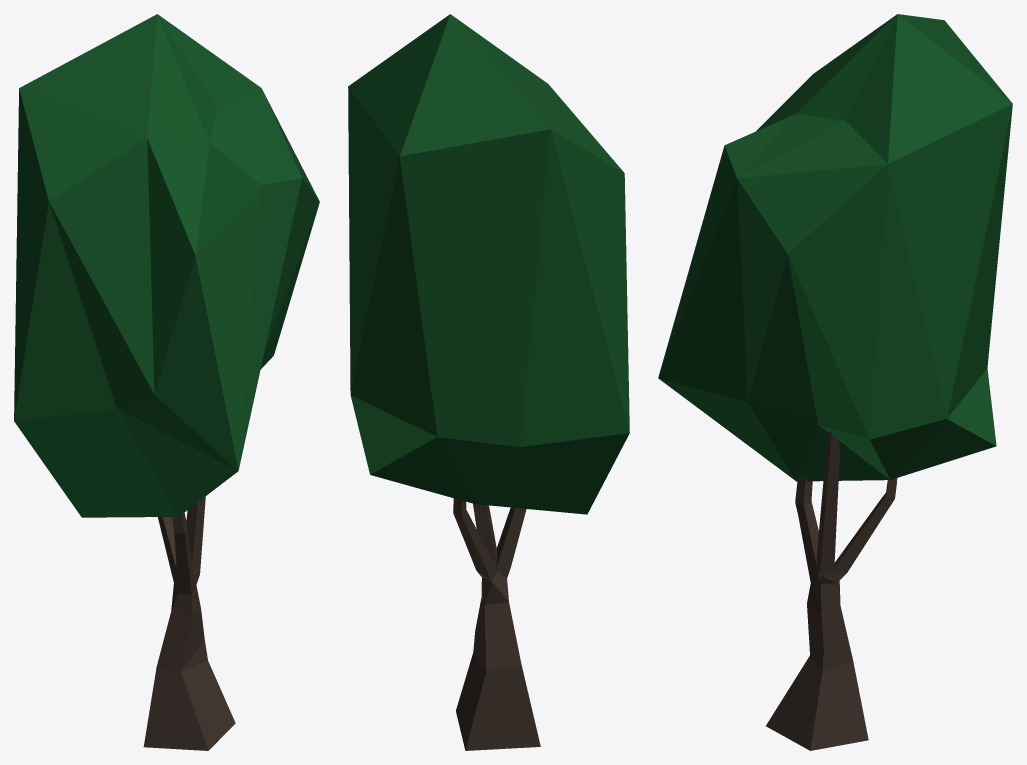
3 renders of one model, left to right at view 1: azimuth 30°, elevation 25°; view 2: azimuth 150°, elevation 25°; view 3: azimuth 270°, elevation 25°, orthographic. The views are drawn at different scales.
Visible parts, largest first — view 1: Icosphere, Vert; view 2: Icosphere, Vert; view 3: Icosphere, Vert.
Part boxes in pixels (x1,y1,x2,y2): Icosphere: [14, 14, 319, 517]; Vert: [143, 496, 235, 750]; Icosphere: [348, 14, 629, 514]; Vert: [453, 498, 540, 750]; Icosphere: [658, 14, 1012, 481]; Vert: [766, 432, 897, 750].
Bounding box in the file's own units: 941 × 2359 × 1044.
